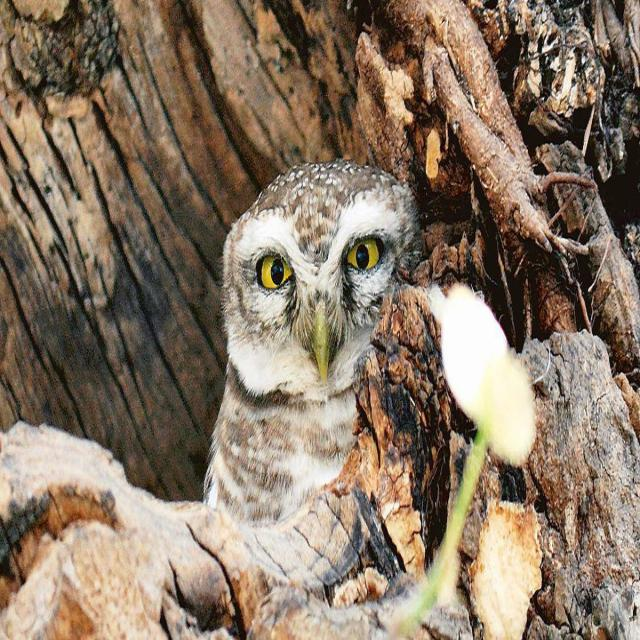owl: (204, 158, 421, 523)
